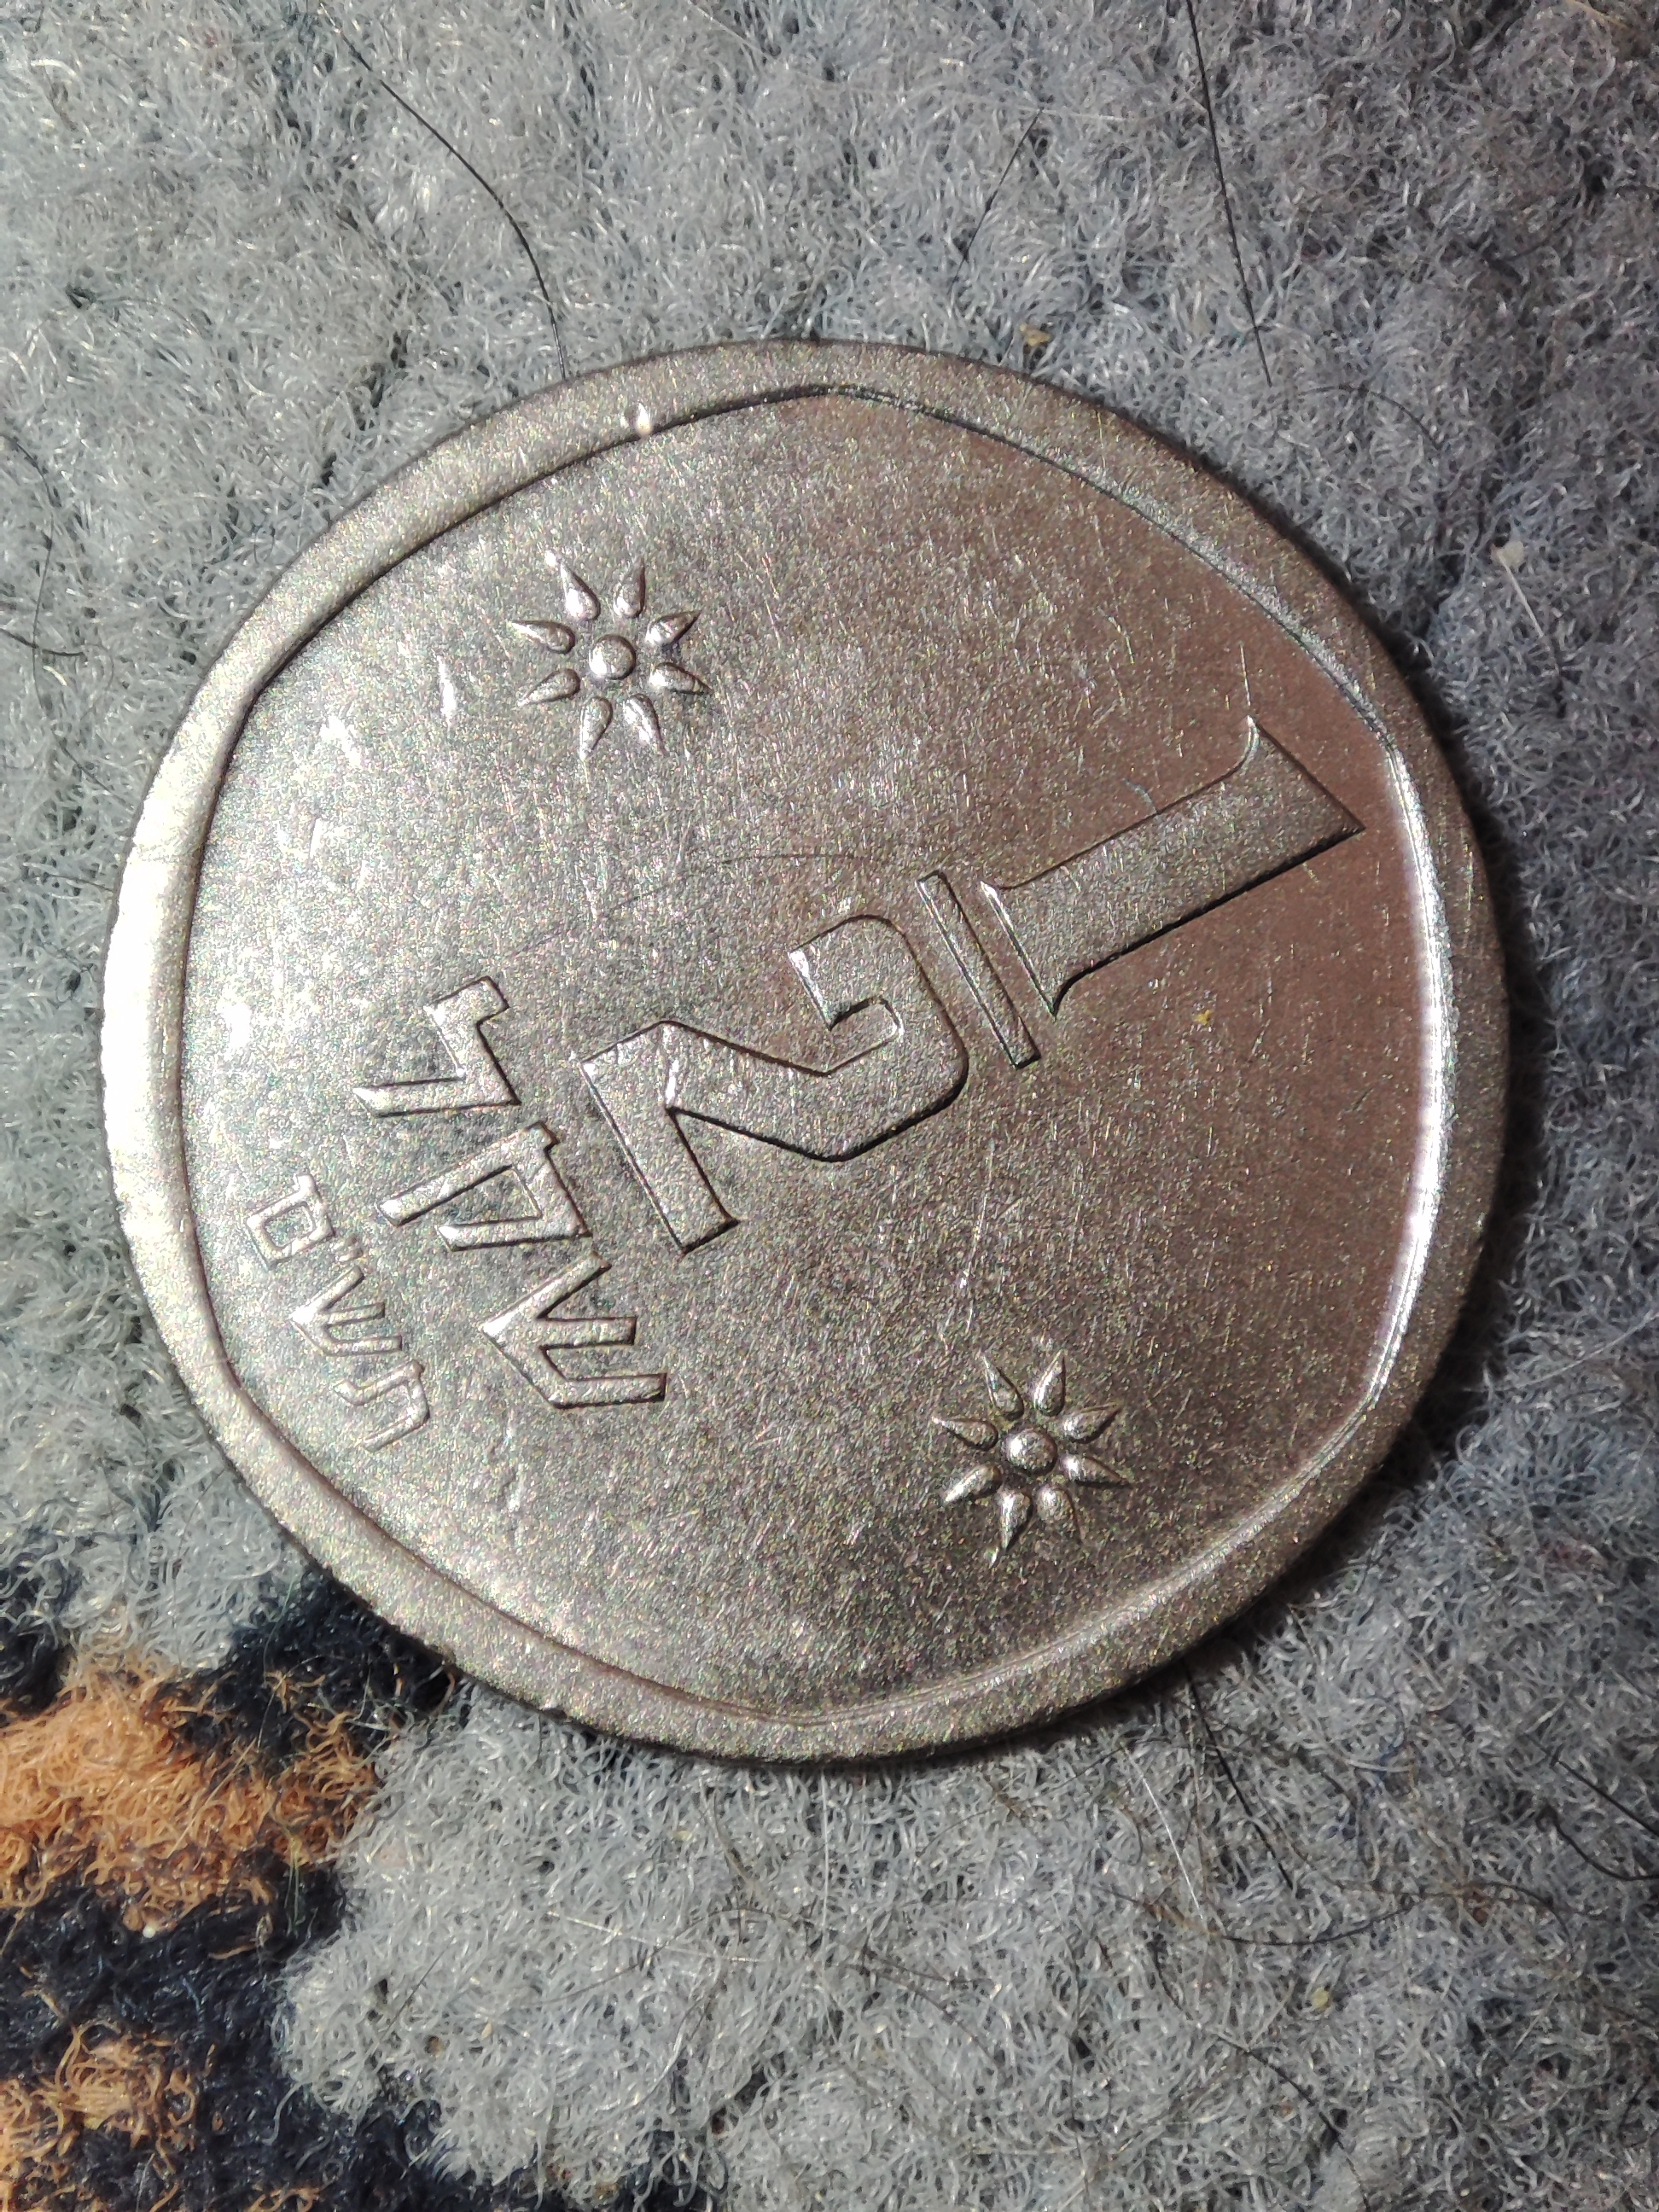1/2 old sheqel: (92, 333, 1525, 1784)
